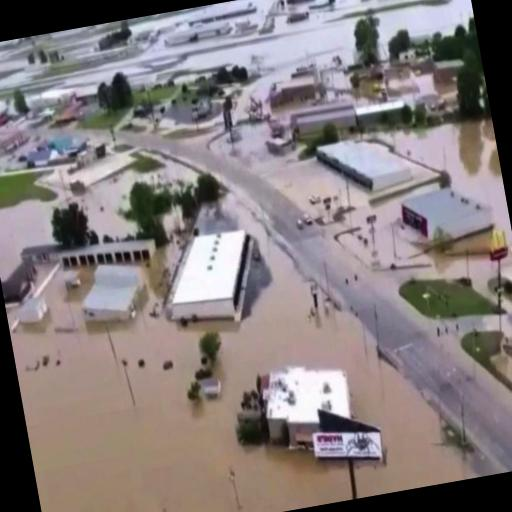flood: (6, 196, 476, 512), (261, 156, 497, 296), (0, 160, 197, 279), (177, 0, 409, 97), (378, 118, 512, 244), (69, 34, 231, 81), (377, 0, 473, 59), (129, 0, 273, 37), (0, 60, 33, 89), (490, 348, 512, 382), (502, 254, 512, 278)
house: (152, 222, 276, 334), (313, 126, 429, 220), (394, 178, 494, 252), (253, 358, 353, 430), (78, 258, 152, 324), (50, 231, 154, 274)
